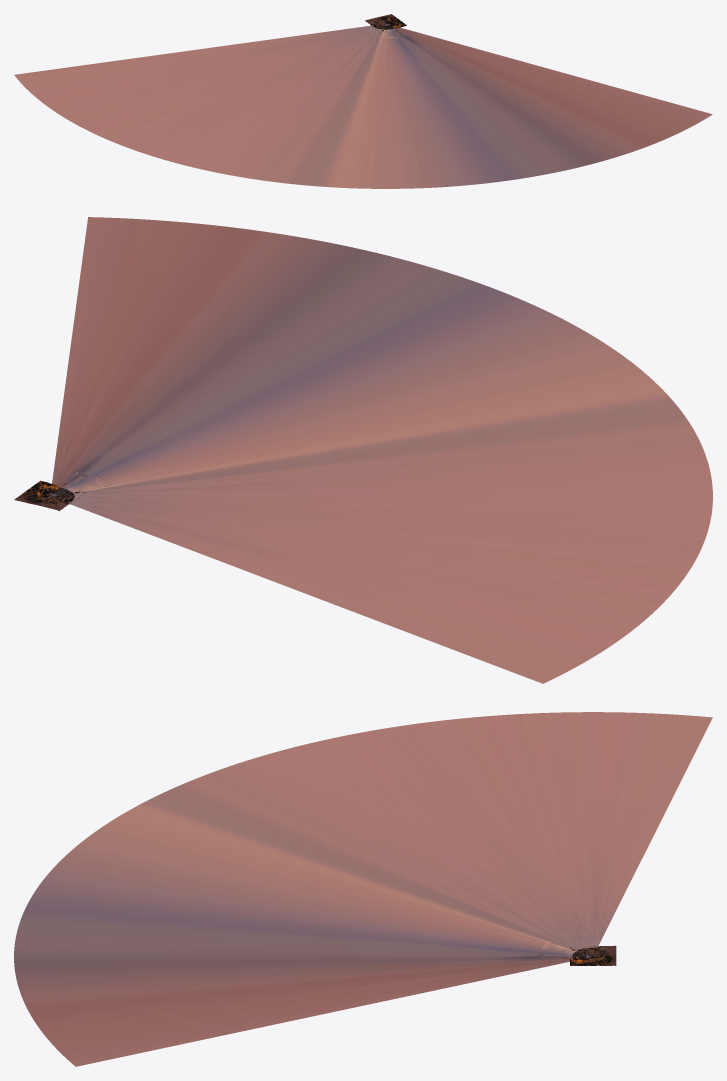
File: env.glb
3 views of the same model, one above another, from view 1: azimuth 30°, elevation 25°; view 2: azimuth 150°, elevation 25°; view 3: azimuth 270°, elevation 25° (orthographic). The views are drawn at different scales.
Visible parts, largest first — view 1: water_apron, terrain; view 2: water_apron, terrain, terrain_overlay_2; view 3: water_apron, terrain, terrain_overlay_2.
Part boxes in pixels (x1=…): water_apron: x1=14, y1=25, x2=712, y2=188; terrain: x1=365, y1=14, x2=406, y2=30; water_apron: x1=52, y1=217, x2=712, y2=683; terrain: x1=15, y1=481, x2=85, y2=510; terrain_overlay_2: x1=14, y1=480, x2=84, y2=510; water_apron: x1=14, y1=712, x2=712, y2=1066; terrain: x1=570, y1=946, x2=616, y2=965; terrain_overlay_2: x1=570, y1=946, x2=616, y2=965.
Bounding box in the file's own units: 7248 × 33.71 × 6036.
6 materials, 6 textured.
